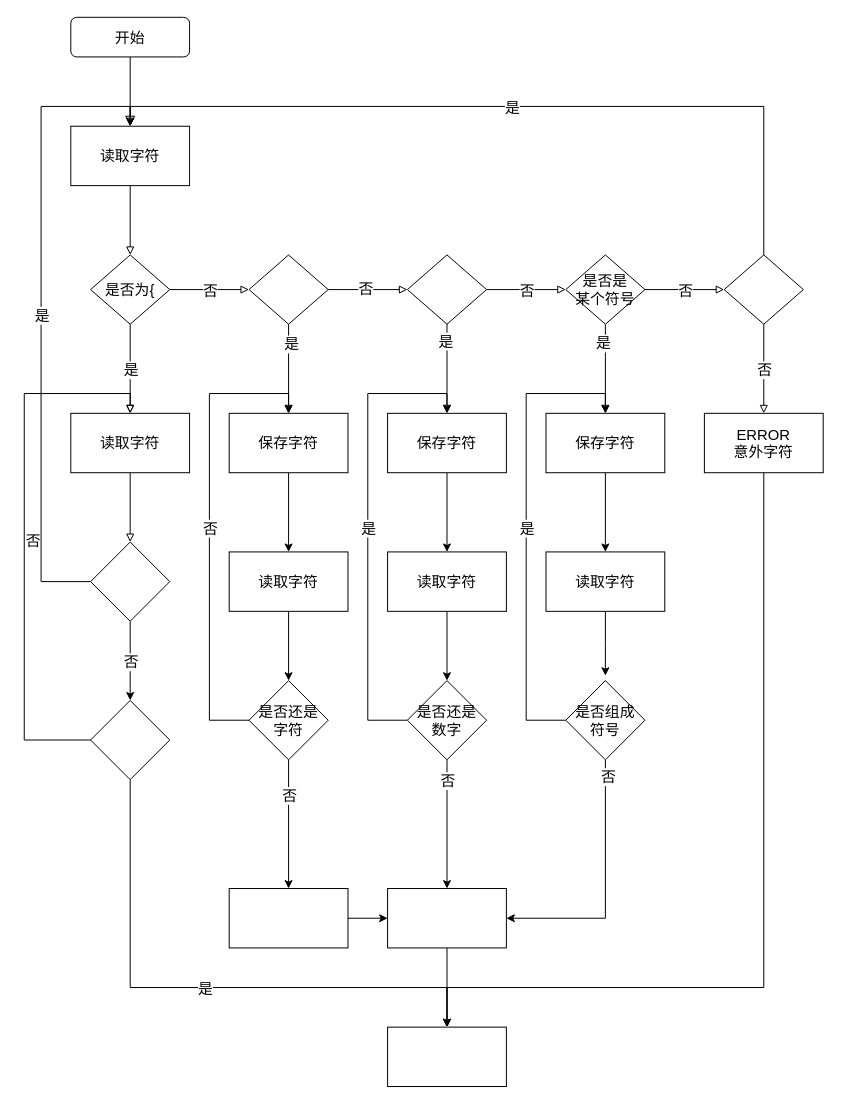
Some shapes in this 841 by 1104 pixel diagram are drawn without their labels. The shapes that lost their labels are listed below. From the top down, each one's box as (x1, y1, x2, y2) in pixels, then its label:
(248, 254, 328, 324): 是否为字母
(406, 254, 487, 324): 是否为数字
(723, 254, 803, 324): 是否为 空白字符
(90, 541, 170, 621): 是否为}
(90, 699, 170, 780): 文件是否 结束
(228, 888, 348, 948): 查关键词
(387, 888, 506, 948): 字符回退
(387, 1026, 506, 1087): 导出token
